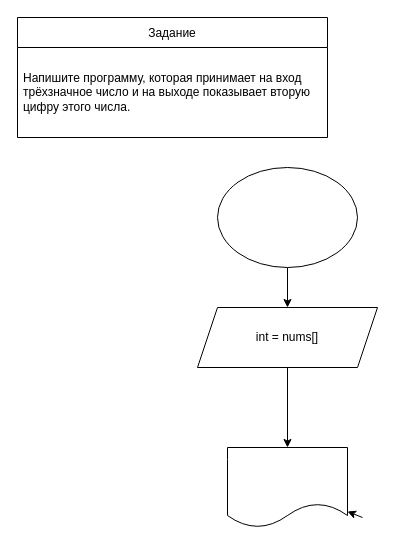
Some shapes in this 395 by 545 pixel diagram are drawn without their labels. The shapes that lost their labels are listed below. From the top down, each one's centre as x and y in pixels, then its label:
(287,217): Start "Программа, которая показывает 2 цифру введенного вами 3-х значного числа"
(287,487): nums[1]
